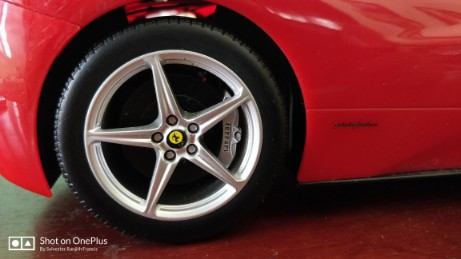aligned_wheel: (50, 20, 293, 240)
